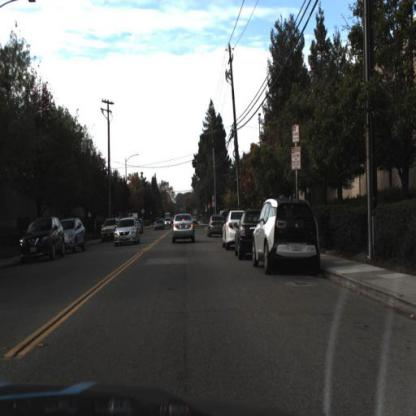car: (251, 196, 325, 276), (250, 196, 324, 273), (19, 215, 67, 258), (233, 206, 263, 262), (62, 216, 89, 256), (113, 214, 138, 247), (171, 211, 196, 244)
